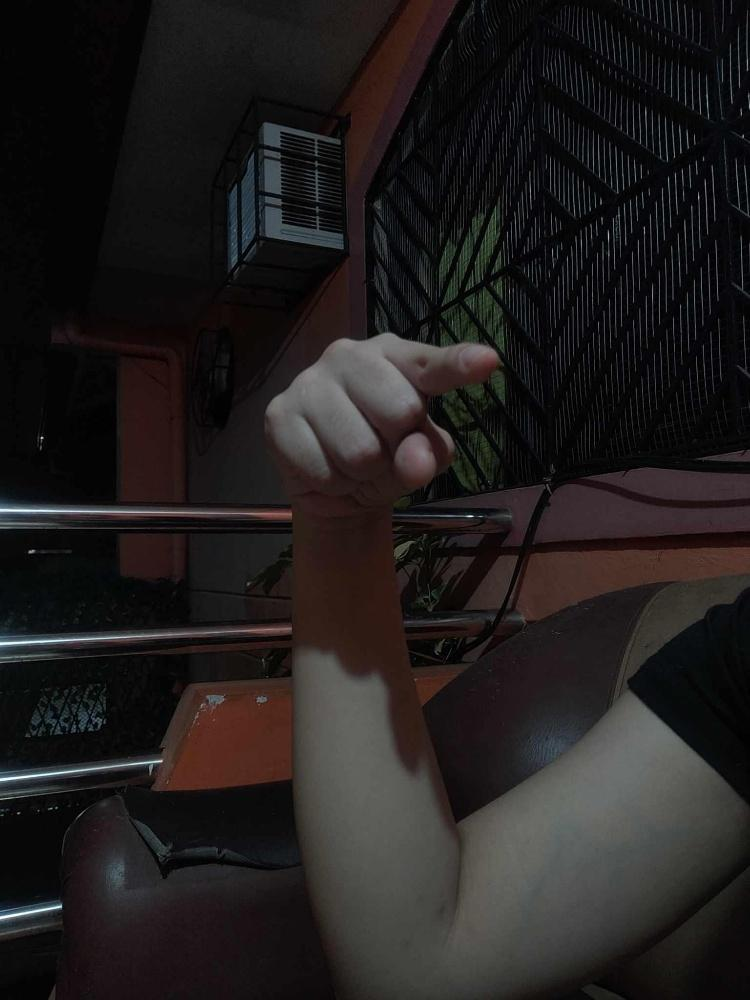z: (262, 330, 497, 517)
